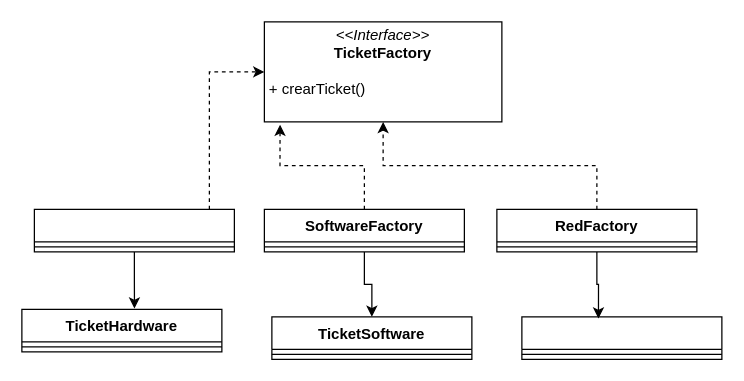
Image size: 744x381. Some labels were removed from this diagram. Here are the shapes that lost their labels. From the top down, the centre of each, then its label:
point 133,230: HardwareFactory
point 621,337: TicketRed
